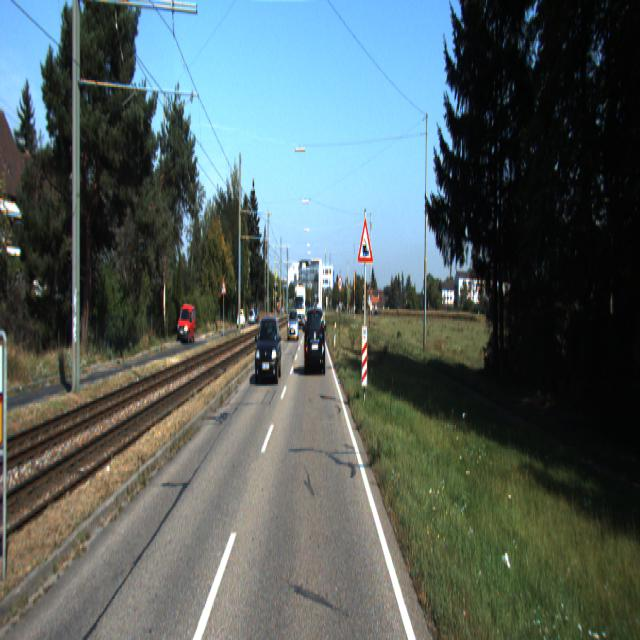Car: (254, 312, 283, 386), (305, 307, 326, 377), (177, 306, 196, 348), (288, 308, 299, 342)
